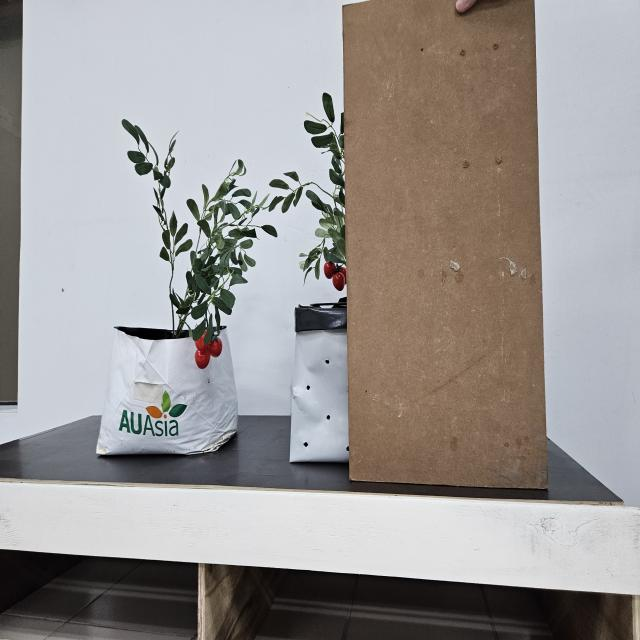Obstacle: (341, 0, 549, 500)
Soilbag: (96, 326, 239, 460), (289, 301, 351, 468)
Tomato: (194, 328, 223, 369), (322, 261, 348, 294)
plant: (121, 120, 277, 369), (276, 93, 355, 292)
